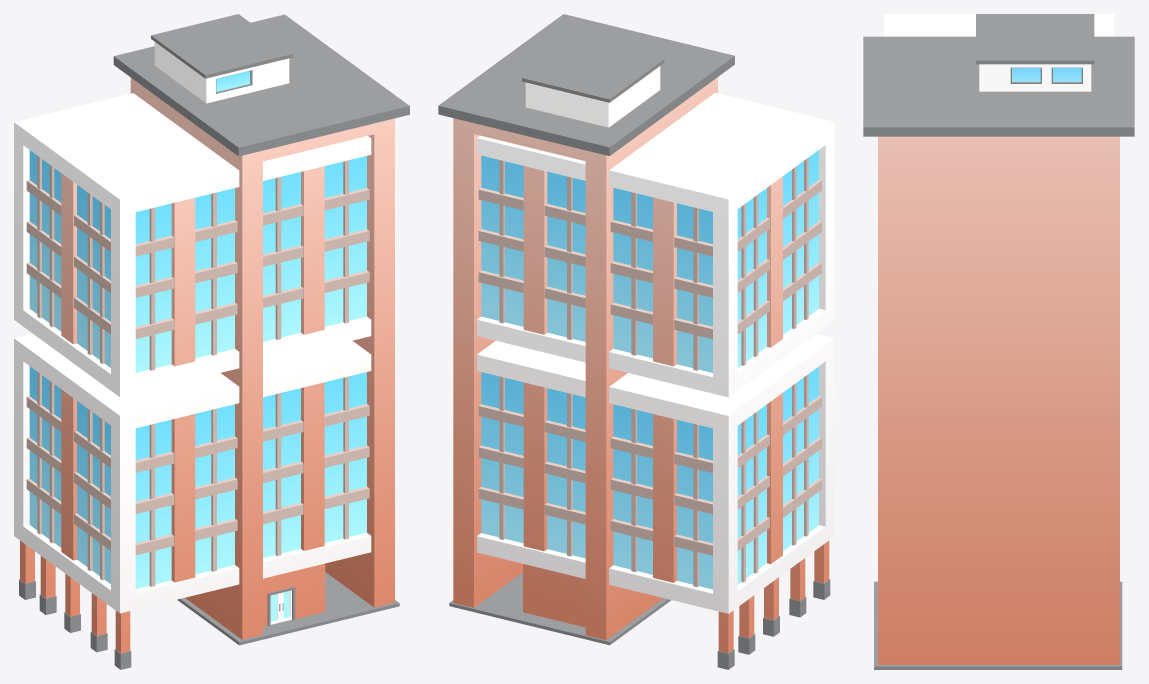
Rendered from Building_Living_53.glb.
The picture shows the model from 3 angles, left to right: view 1: azimuth 30°, elevation 25°; view 2: azimuth 150°, elevation 25°; view 3: azimuth 270°, elevation 25°; orthographic projection. The views are drawn at different scales.
Visible parts, largest first — view 1: Building_Living_53; view 2: Building_Living_53; view 3: Building_Living_53.
Boxes of the visible parts, x1,y1,x2,y2 form: Building_Living_53: (14, 14, 409, 669); Building_Living_53: (438, 14, 834, 669); Building_Living_53: (863, 14, 1134, 669).
Size of the model in its own units: 20.85 by 37.99 by 16.12.
Materials: 1 (1 with a texture image).
